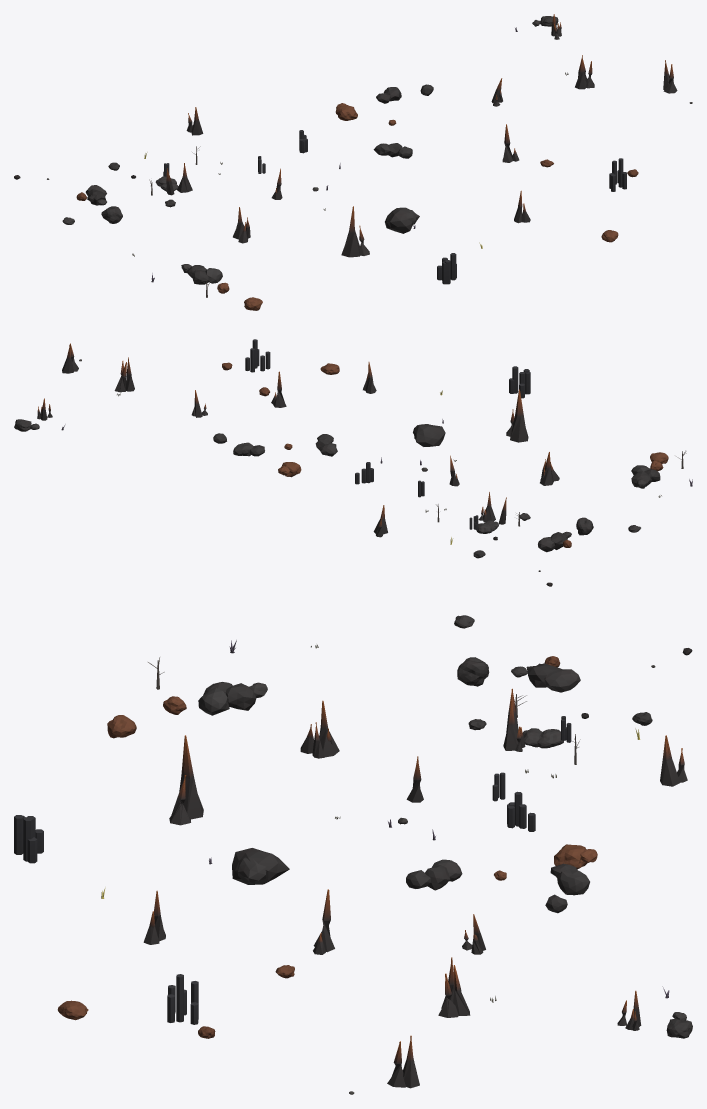
The model's file is ash_land_scatter_c21_31.glb.
3 renders of one model, top to bottom at view 1: azimuth 30°, elevation 25°; view 2: azimuth 150°, elevation 25°; view 3: azimuth 270°, elevation 25°, orthographic. The views are drawn at different scales.
Visible parts, largest first — view 1: ash_land_scatter_c21_31; view 2: ash_land_scatter_c21_31; view 3: ash_land_scatter_c21_31.
Part boxes in pixels (box(x1,y1,x2,y2)): ash_land_scatter_c21_31: box(14, 14, 692, 310); ash_land_scatter_c21_31: box(14, 339, 692, 586); ash_land_scatter_c21_31: box(14, 615, 692, 1094).
Bounding box in the file's own units: 206 × 26.28 × 124.
